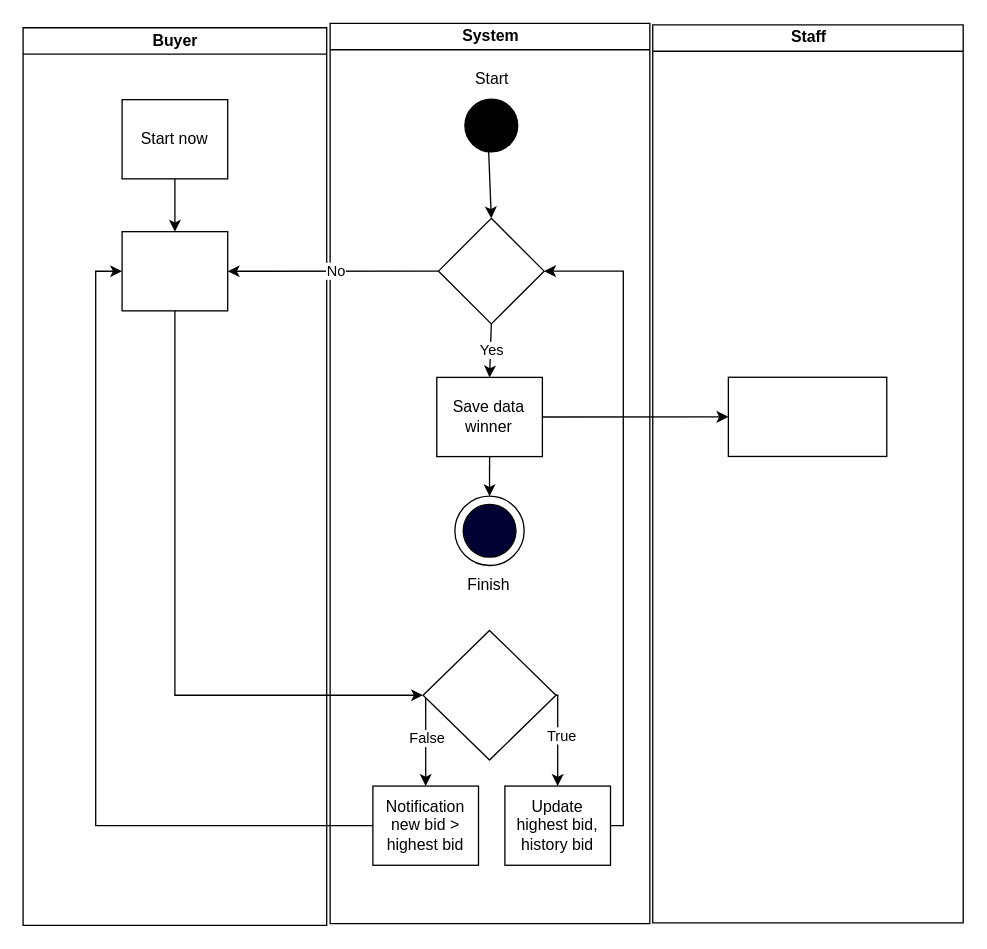
Image size: 987x949. Some labels were removed from this diagram. The centre of each missing label's shape, as x and y in pixels:
Bid: [174,270]
Check new bid > highest bid?: [489,694]
Countdown time =0?: [490,270]
Receive information of winner: [807,416]
